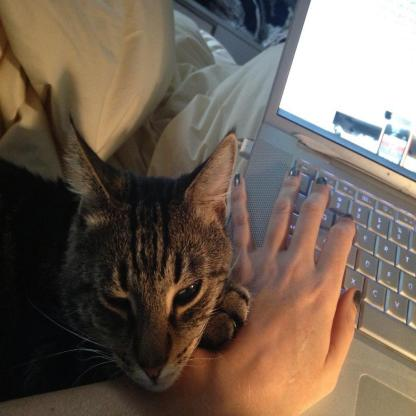board: (227, 0, 416, 415)
